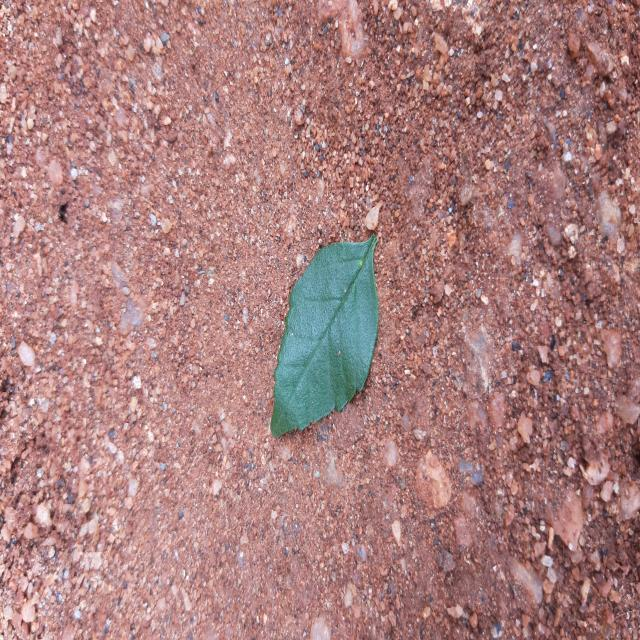tecoma: (271, 236, 379, 438)
